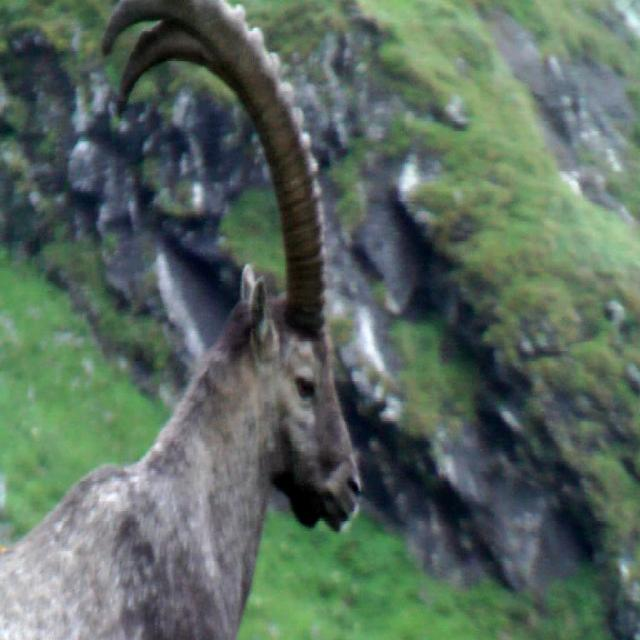Goat: (0, 62, 367, 634)
